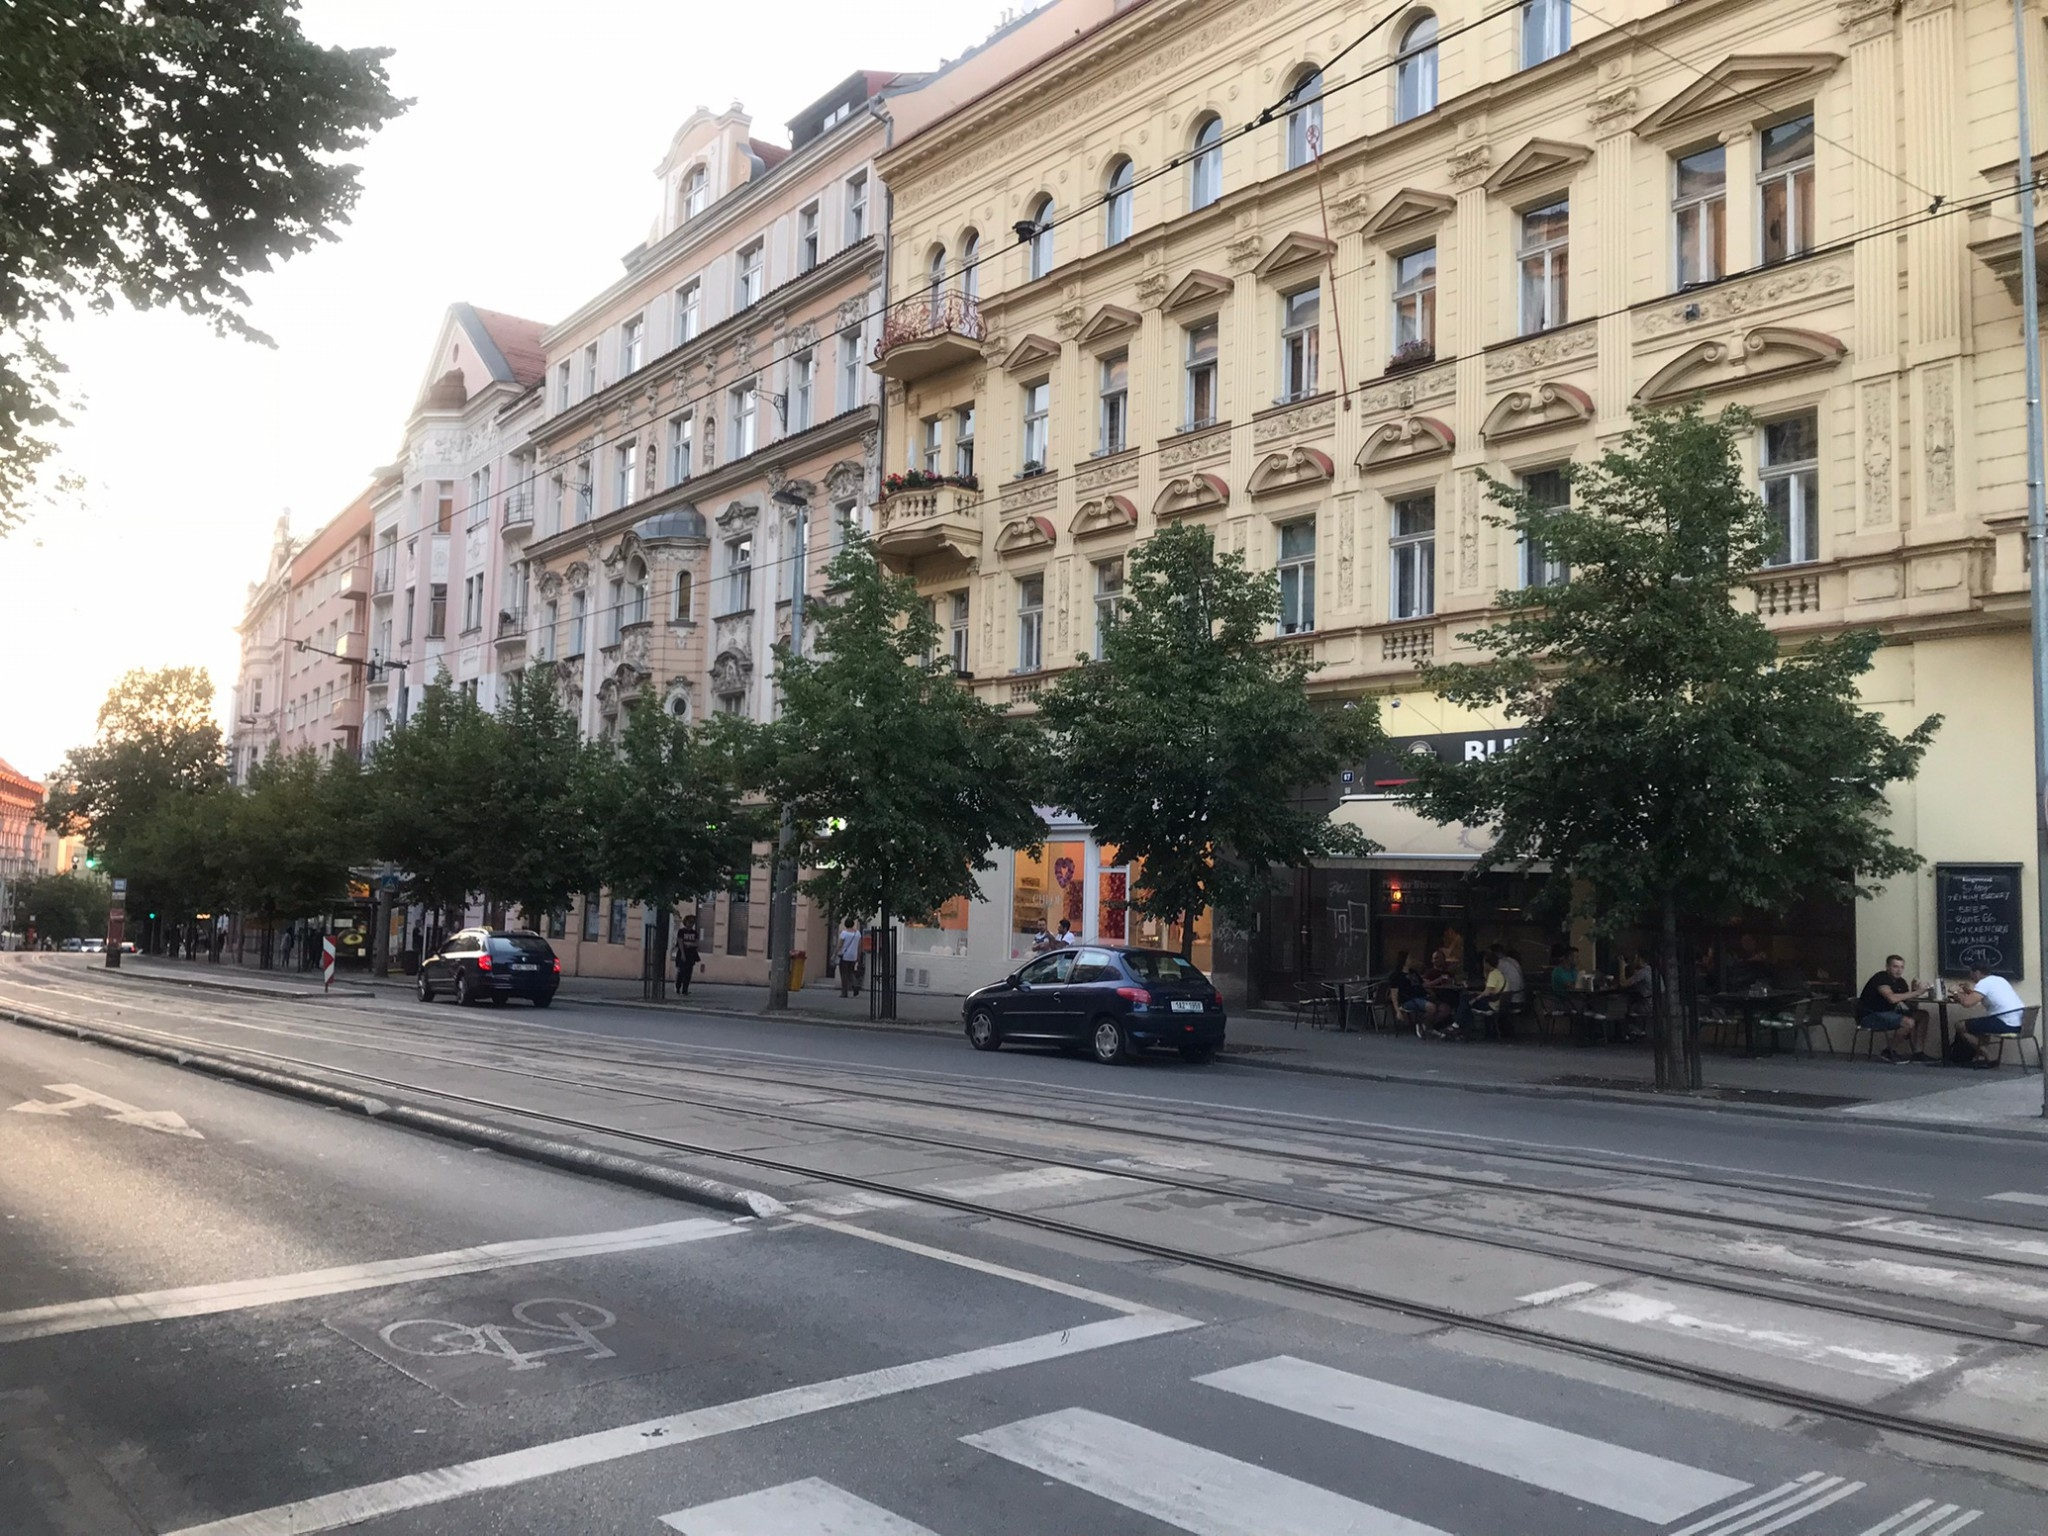people: (1966, 952, 2034, 1060), (1854, 949, 1919, 1046), (669, 910, 702, 993), (840, 910, 866, 1002)
